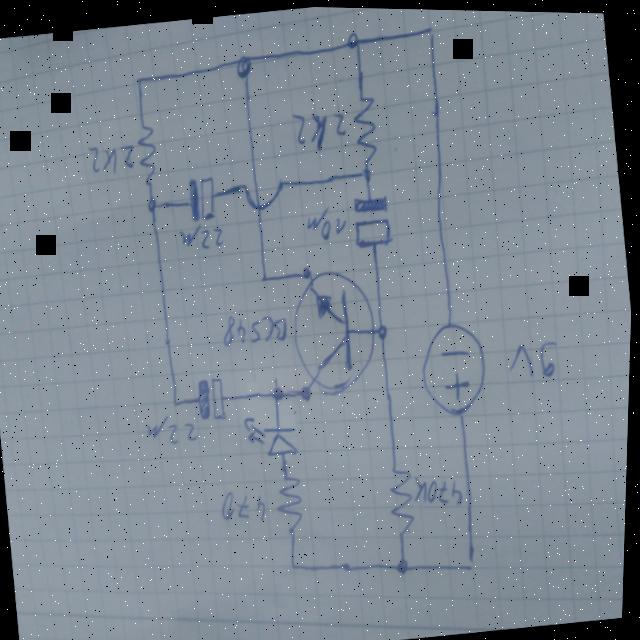capacitor: (349, 189, 395, 247), (195, 372, 230, 422), (185, 172, 219, 221)
crossover: (238, 173, 289, 213)
diode: (242, 407, 302, 460)
junction: (230, 49, 254, 79), (419, 18, 439, 43), (373, 316, 391, 340), (297, 379, 315, 403), (395, 551, 414, 573), (270, 380, 289, 402), (344, 27, 363, 49), (145, 190, 161, 212), (288, 552, 305, 572), (359, 161, 376, 181), (299, 260, 314, 280), (465, 552, 480, 570), (130, 70, 145, 88), (171, 390, 185, 409), (257, 267, 272, 283)
resistor: (386, 460, 421, 537), (348, 88, 383, 163), (274, 469, 310, 537), (132, 118, 161, 187)
source: (414, 312, 494, 419)
text: (288, 104, 350, 154), (219, 305, 290, 347), (506, 332, 563, 380), (412, 466, 467, 508), (219, 484, 271, 525), (84, 137, 137, 177), (146, 410, 201, 448), (304, 201, 349, 243), (177, 220, 227, 252)
transistor: (284, 261, 385, 398)
